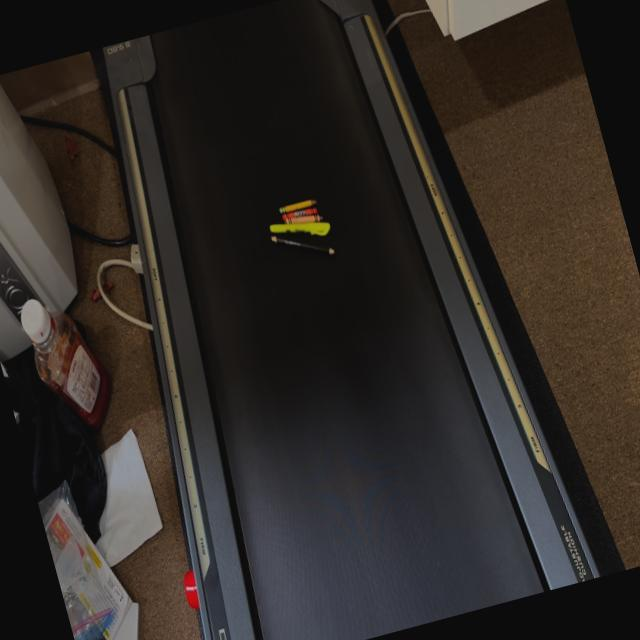Trash: (252, 164, 361, 284)
